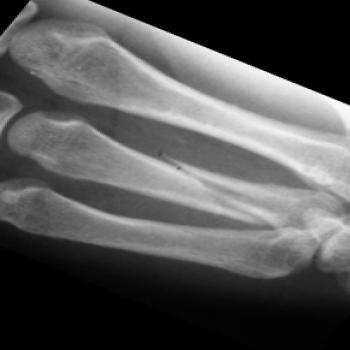Fracture: (139, 158, 263, 207)
